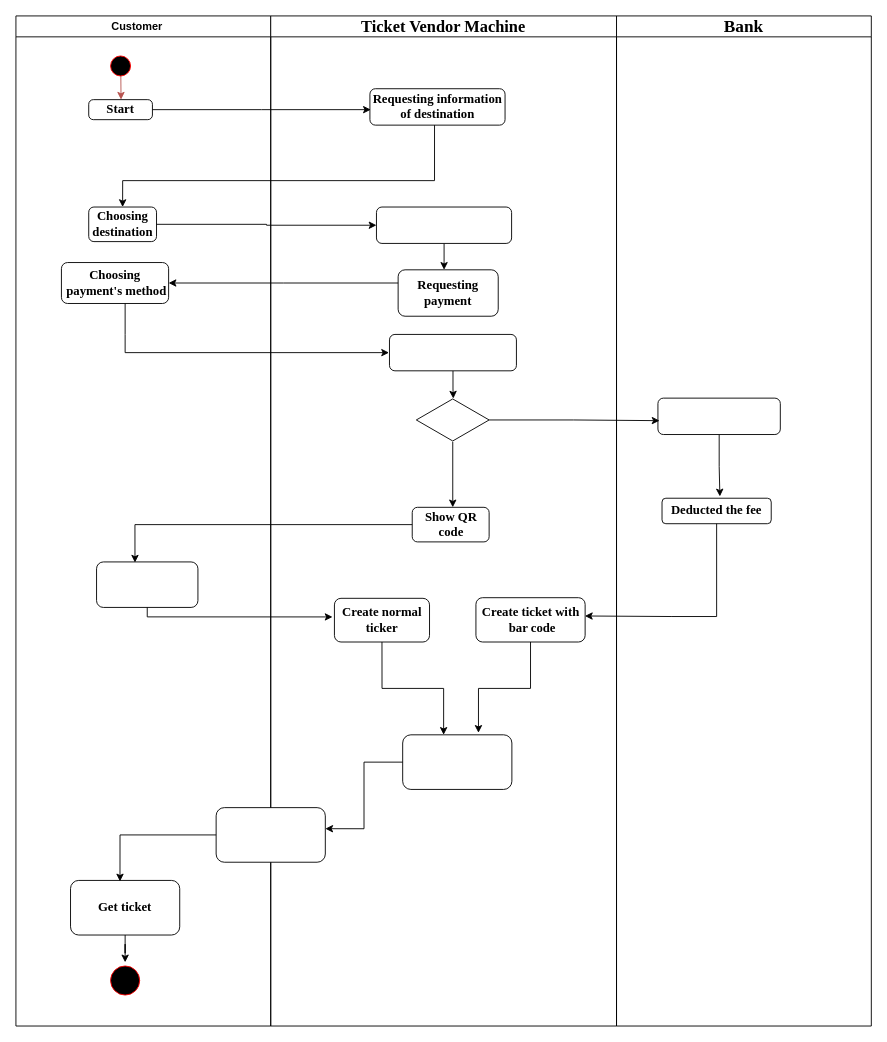
Image size: 887x1042. Some labels were removed from this diagram. Each missing label, with the centre of its shape:
"Authorized credit card" belongs at point 718,416.
"Condition" belongs at point 452,419.
"Dispense ticket" belongs at point 457,761.
"Process information of destination" belongs at point 444,224.
"Process of payment" belongs at point 452,352.
"Scan QR code" belongs at point 147,584.
"Ticket" belongs at point 270,834.
